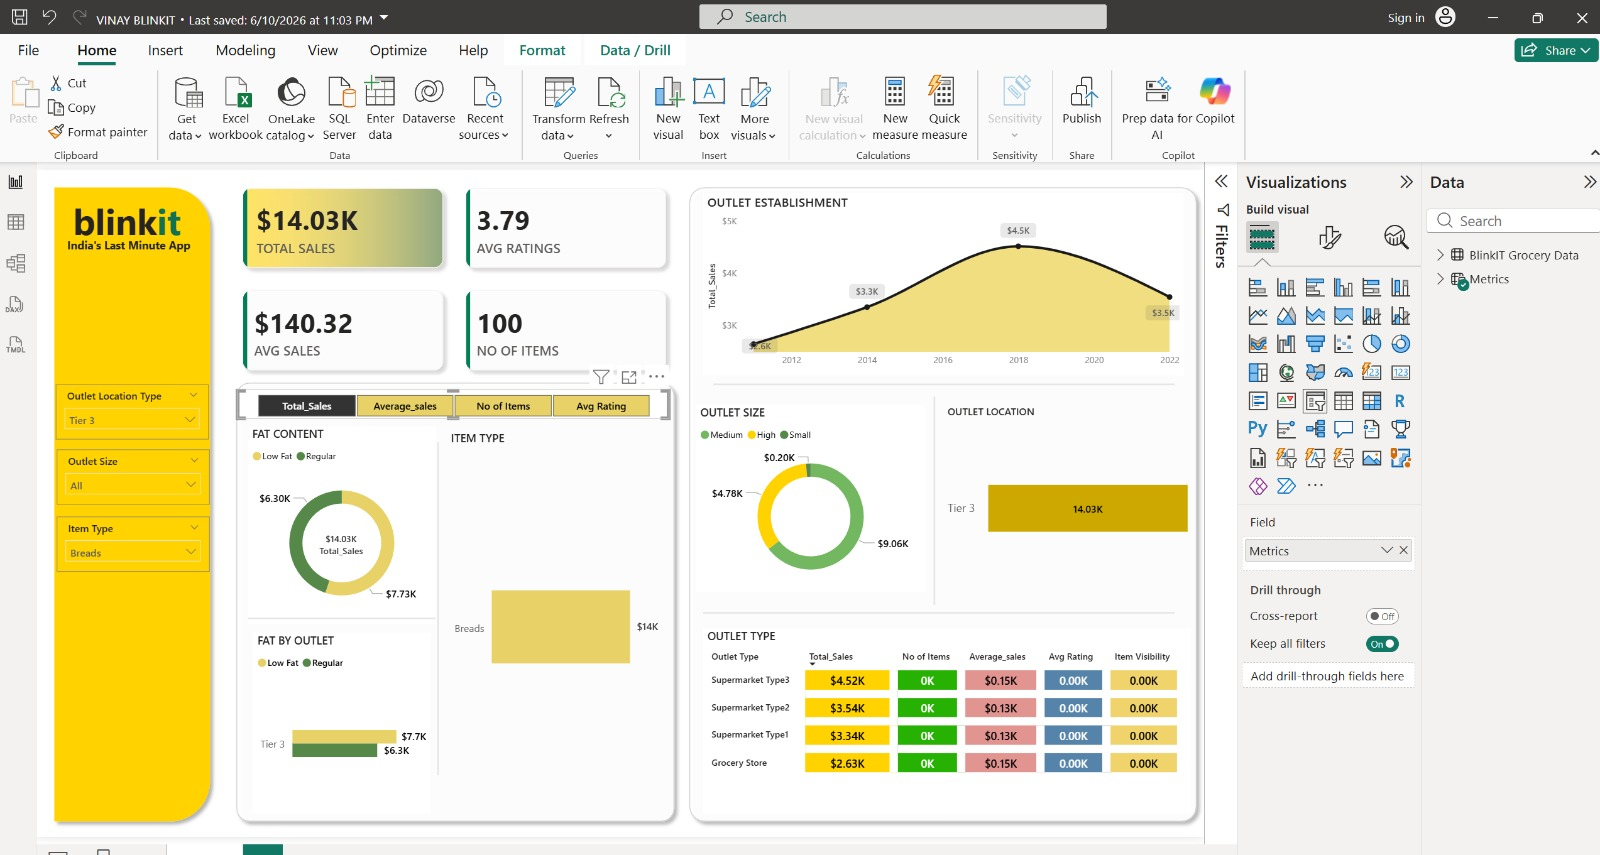

The dashboard page shown, as its layout file describes it:
{"tool":"powerbi","page":{"name":"Page 1","canvas":[1400,800],"ordinal":0},"visuals":[{"type":"shape","box":[12.2,12.2,205.1,778.7],"z":0},{"type":"textbox","box":[39.1,26.9,179.4,78.1],"z":1000},{"type":"textbox","box":[12.9,77.2,194.5,28.6],"z":2000},{"type":"cardVisual","fields":{"Data":["BlinkIT Grocery Data.Total_Sales","BlinkIT Grocery Data.Avg Rating","BlinkIT Grocery Data.Average_sales","BlinkIT Grocery Data.No of Items"]},"box":[225.8,0,552.9,263.6],"z":3000},{"type":"shape","box":[230.7,246.6,543.1,544.4],"z":4000},{"type":"donutChart","title":"FAT CONTENT","fields":{"Y":["BlinkIT Grocery Data.Avg Rating"],"Category":["BlinkIT Grocery Data.Item Fat Content"]},"box":[253.9,307.6,224.6,236.8],"z":5000},{"type":"slicer","fields":{"Values":["Metrics.Metrics"]},"box":[240.5,263.6,518.7,35.4],"z":6000},{"type":"cardVisual","fields":{"Data":["BlinkIT Grocery Data.Avg Rating"]},"box":[297.8,416.2,135.5,67.1],"z":7000},{"type":"clusteredBarChart","title":"FAT BY OUTLET","fields":{"Y":["BlinkIT Grocery Data.Avg Rating"],"Category":["BlinkIT Grocery Data.Outlet Location Type"],"Series":["BlinkIT Grocery Data.Item Fat Content"]},"box":[260,555.4,212.4,216],"z":8000},{"type":"shape","box":[253.9,532.2,224.6,12.2],"z":9000},{"type":"shape","box":[462.6,327.1,37.8,399.1],"z":10000},{"type":"barChart","title":"ITEM TYPE","fields":{"Category":["BlinkIT Grocery Data.Item Type"],"Y":["BlinkIT Grocery Data.Total_Sales"]},"box":[491.9,312.5,267.3,451.6],"z":11000},{"type":"shape","box":[773.8,12.2,626.1,778.7],"z":12000},{"type":"lineChart","title":"OUTLET ESTABLISHMENT","fields":{"Y":["BlinkIT Grocery Data.Total_Sales"],"Category":["BlinkIT Grocery Data.Outlet Establishment Year"]},"box":[799.5,28.1,576.1,218.5],"z":13000},{"type":"donutChart","title":"OUTLET SIZE","fields":{"Y":["BlinkIT Grocery Data.Total_Sales"],"Category":["BlinkIT Grocery Data.Outlet Size"]},"box":[790.9,281.9,274.6,224.6],"z":14000},{"type":"shape","box":[1065.5,272.2,22,250.2],"z":15000},{"type":"funnel","title":"OUTLET LOCATION","fields":{"Y":["Sum(BlinkIT Grocery Data.Sales)"],"Category":["BlinkIT Grocery Data.Outlet Location Type"]},"box":[1087.5,281.9,302.7,231.9],"z":16000},{"type":"shape","box":[811.7,246.6,552.9,22],"z":17000},{"type":"pivotTable","title":"OUTLET TYPE","fields":{"Rows":["BlinkIT Grocery Data.Outlet Type"],"Values":["BlinkIT Grocery Data.Total_Sales","BlinkIT Grocery Data.No of Items","BlinkIT Grocery Data.Average_sales","BlinkIT Grocery Data.Avg Rating","Avg(BlinkIT Grocery Data.Item Visibility)"]},"box":[799.5,550.5,584.6,220.9],"z":18000},{"type":"shape","box":[799.5,521.2,565.1,20.7],"z":19000},{"type":"slicer","fields":{"Values":["BlinkIT Grocery Data.Outlet Location Type"]},"box":[23.2,257.5,183.1,65.9],"z":20000},{"type":"slicer","fields":{"Values":["BlinkIT Grocery Data.Outlet Size"]},"box":[24.4,335.7,183.1,65.9],"z":21000},{"type":"slicer","fields":{"Values":["BlinkIT Grocery Data.Item Type"]},"box":[24.4,416.2,183.1,65.9],"z":22000}]}

Visuals, with their boxes on the page's 1400x800 design canvas (x1, y1, x2, y2). These are canvas units, not pixel positions in the 1600x855 screenshot, which may show the page scaled, cropped or inside an application window:
shape: (left=12, top=12, right=217, bottom=791)
textbox: (left=39, top=27, right=218, bottom=105)
textbox: (left=13, top=77, right=207, bottom=106)
cardVisual - BlinkIT Grocery Data.Total_Sales x BlinkIT Grocery Data.Avg Rating: (left=226, top=0, right=779, bottom=264)
shape: (left=231, top=247, right=774, bottom=791)
"FAT CONTENT" donutChart: (left=254, top=308, right=478, bottom=544)
slicer - Metrics.Metrics: (left=240, top=264, right=759, bottom=299)
cardVisual - BlinkIT Grocery Data.Avg Rating: (left=298, top=416, right=433, bottom=483)
"FAT BY OUTLET" clusteredBarChart: (left=260, top=555, right=472, bottom=771)
shape: (left=254, top=532, right=478, bottom=544)
shape: (left=463, top=327, right=500, bottom=726)
"ITEM TYPE" barChart: (left=492, top=312, right=759, bottom=764)
shape: (left=774, top=12, right=1400, bottom=791)
"OUTLET ESTABLISHMENT" lineChart: (left=800, top=28, right=1376, bottom=247)
"OUTLET SIZE" donutChart: (left=791, top=282, right=1066, bottom=506)
shape: (left=1066, top=272, right=1088, bottom=522)
"OUTLET LOCATION" funnel: (left=1088, top=282, right=1390, bottom=514)
shape: (left=812, top=247, right=1365, bottom=269)
"OUTLET TYPE" pivotTable: (left=800, top=550, right=1384, bottom=771)
shape: (left=800, top=521, right=1365, bottom=542)
slicer - BlinkIT Grocery Data.Outlet Location Type: (left=23, top=258, right=206, bottom=323)
slicer - BlinkIT Grocery Data.Outlet Size: (left=24, top=336, right=208, bottom=402)
slicer - BlinkIT Grocery Data.Item Type: (left=24, top=416, right=208, bottom=482)
